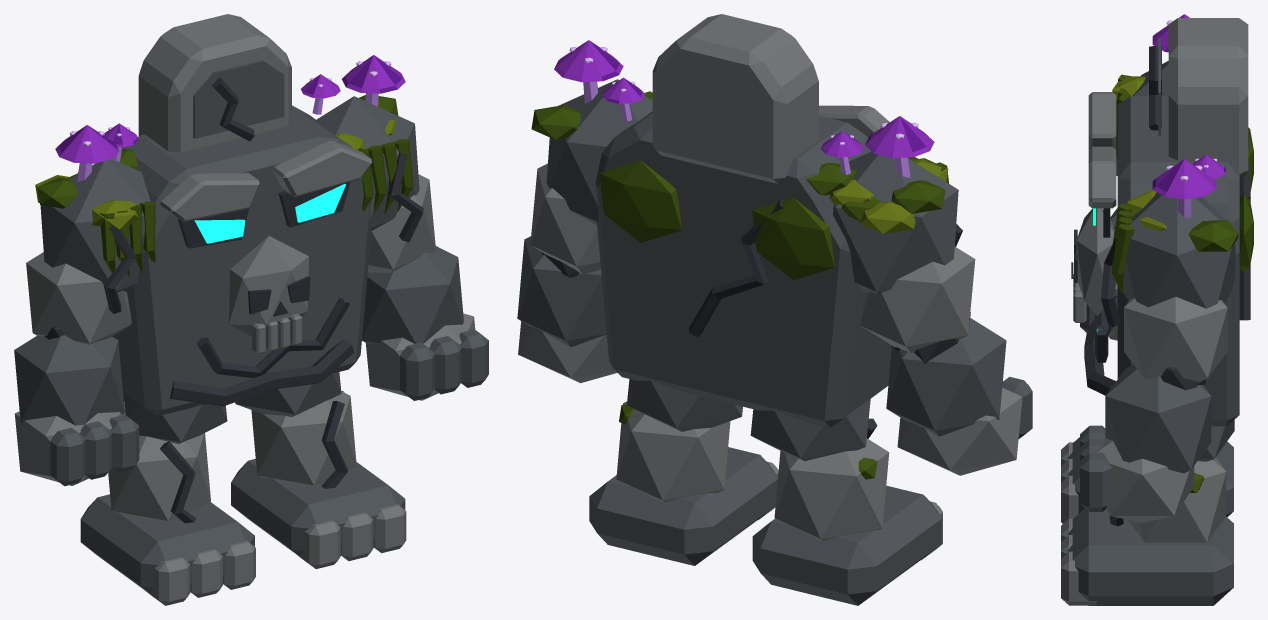
Rendered from GraveGolem.fbx.
3 renders of one model, left to right at view 1: azimuth 30°, elevation 25°; view 2: azimuth 150°, elevation 25°; view 3: azimuth 270°, elevation 25°, orthographic. The views are drawn at different scales.
Parts seen in each view (by area): view 1: Ancient tombstone torso, Raised gravestone crown, Monolith foot-1, Forearm stone-1, Monolith foot1, Forearm stone1, Huge shoulder boulder-1, Stone shin1, Upper arm stone-1, Stone shin-1, Chest skull relief, Gravestone inset (+39 smaller); view 2: Ancient tombstone torso, Raised gravestone crown, Monolith foot-1, Monolith foot1, Forearm stone-1, Huge shoulder boulder-1, Stone shin-1, Stone shin1, Upper arm stone-1, Forearm stone1, Huge shoulder boulder1, Boulder fist-1 (+18 smaller); view 3: Monolith foot1, Raised gravestone crown, Ancient tombstone torso, Huge shoulder boulder1, Forearm stone1, Upper arm stone1, Boulder fist1, Stone shin1, Chest skull relief, Boulder eyebrow1, Shoulder mushroom1 pointed cap, Rock knuckle12 (+23 smaller).
Part boxes in pixels (box(x1,y1,x2,y2)): Ancient tombstone torso: box(112, 105, 371, 416); Raised gravestone crown: box(138, 14, 291, 152); Monolith foot-1: box(80, 494, 254, 592); Forearm stone-1: box(14, 335, 124, 425); Monolith foot1: box(231, 459, 405, 555); Forearm stone1: box(362, 246, 463, 344); Huge shoulder boulder-1: box(40, 159, 156, 292); Stone shin1: box(251, 391, 356, 485); Upper arm stone-1: box(26, 252, 131, 344); Stone shin-1: box(108, 433, 210, 520); Chest skull relief: box(228, 236, 308, 336); Gravestone inset: box(193, 60, 284, 138); Ancient tombstone torso: box(595, 111, 891, 427); Raised gravestone crown: box(652, 14, 818, 183); Monolith foot-1: box(752, 485, 941, 605); Monolith foot1: box(589, 447, 777, 565); Forearm stone-1: box(886, 318, 1006, 436); Huge shoulder boulder-1: box(833, 151, 958, 294); Stone shin-1: box(774, 438, 889, 541); Stone shin1: box(616, 401, 730, 502); Upper arm stone-1: box(860, 246, 975, 352); Forearm stone1: box(517, 236, 606, 347); Huge shoulder boulder1: box(546, 79, 652, 224); Boulder fist-1: box(897, 388, 1022, 475); Monolith foot1: box(1068, 508, 1233, 605); Raised gravestone crown: box(1168, 18, 1248, 177); Ancient tombstone torso: box(1117, 96, 1239, 426); Huge shoulder boulder1: box(1122, 192, 1235, 308); Forearm stone1: box(1105, 364, 1211, 473); Upper arm stone1: box(1124, 296, 1227, 382); Boulder fist1: box(1095, 438, 1194, 522); Stone shin1: box(1128, 457, 1226, 542); Chest skull relief: box(1076, 208, 1116, 315); Boulder eyebrow1: box(1088, 146, 1116, 208); Shoulder mushroom1 pointed cap: box(1152, 159, 1216, 199); Rock knuckle12: box(1080, 452, 1111, 511).
Size of the model in its own units: 374 by 392 by 133.
